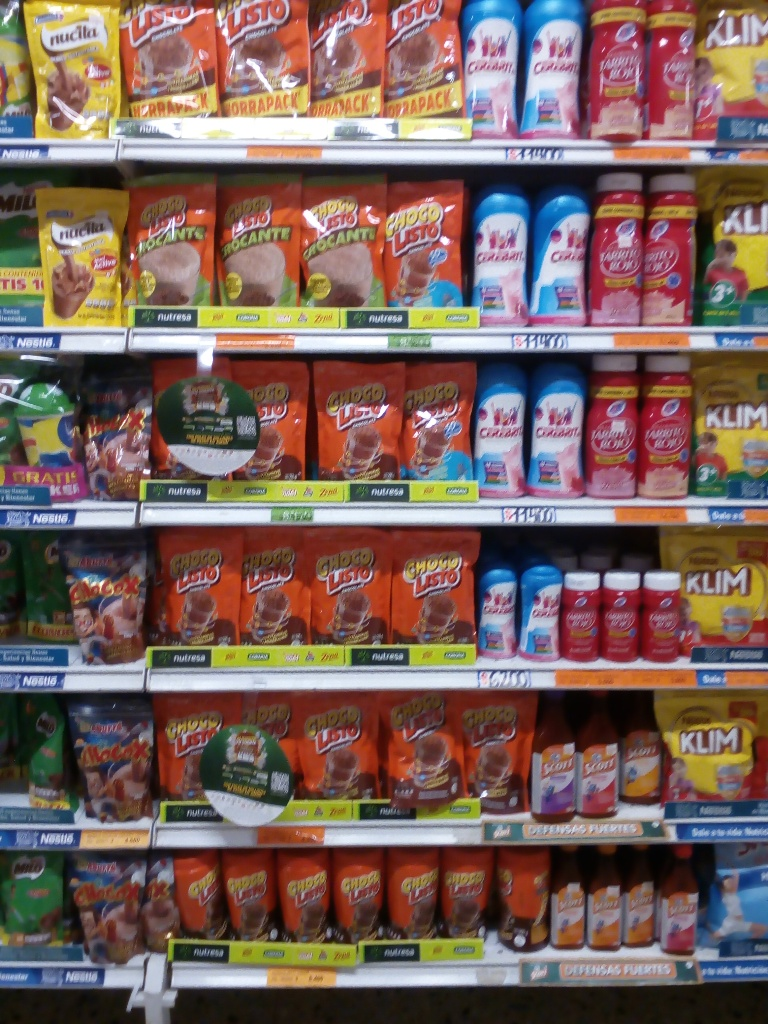COL0170102DYP25000: (298, 171, 389, 309)
COL0170103DYP20000: (391, 529, 482, 639)
COL0170103DYP40000: (385, 1, 466, 116)
COL0170103TRR30000: (497, 848, 553, 951)
COL0170104DYP20000: (390, 181, 467, 307)
COL0170203DYP25000: (1, 848, 67, 965)
